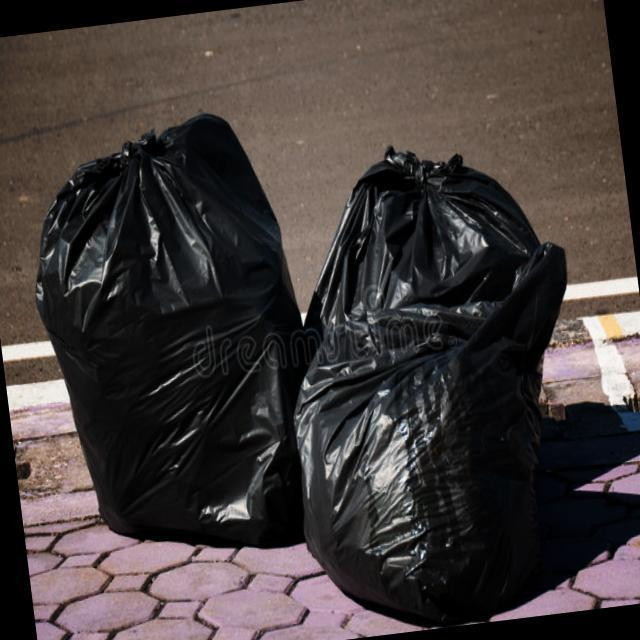garbage: (254, 118, 613, 640), (2, 80, 344, 562)
